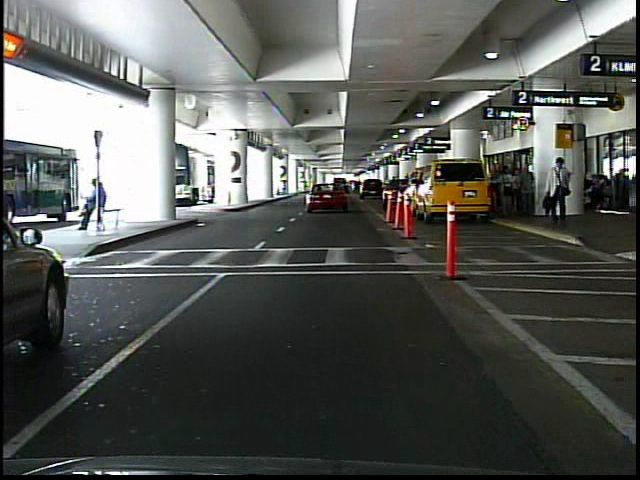person: (543, 157, 574, 228), (518, 163, 538, 219), (501, 165, 518, 218)
